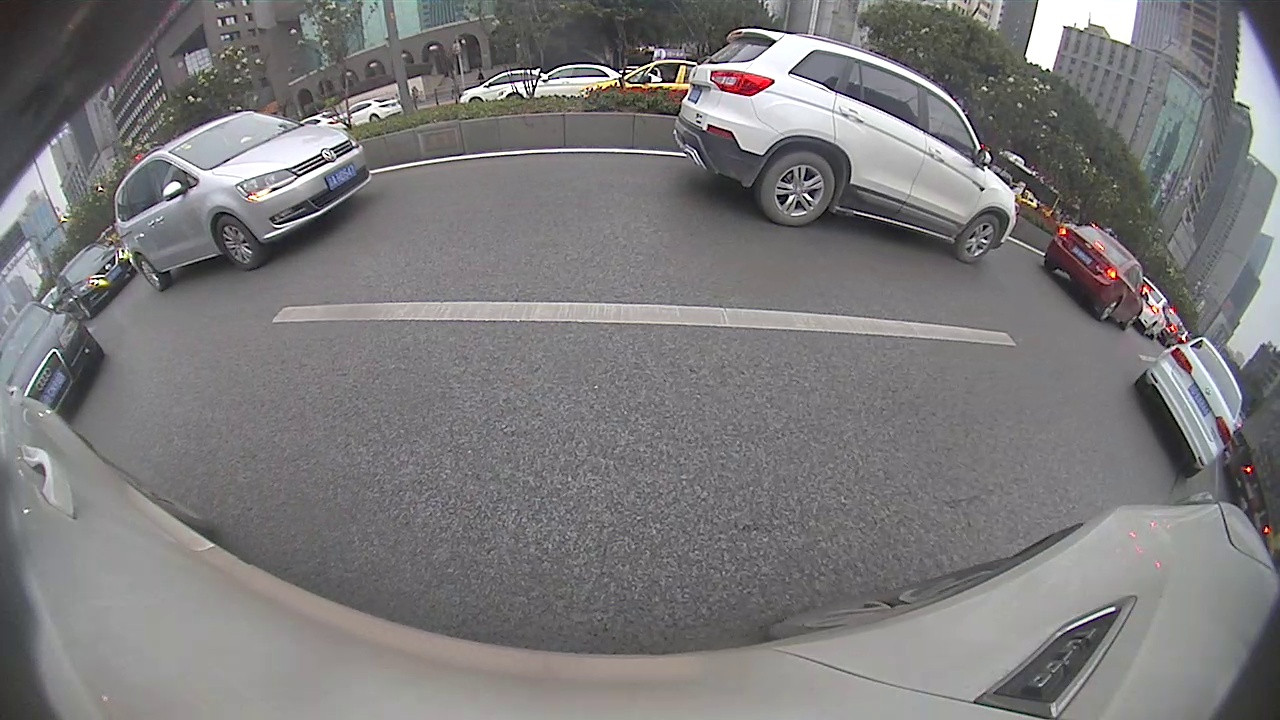car: (673, 27, 1018, 266), (113, 110, 372, 292), (1133, 335, 1244, 478), (0, 298, 106, 414), (1040, 223, 1149, 331), (53, 239, 135, 318)
front: (218, 215, 260, 269), (959, 215, 1000, 263), (507, 94, 524, 105), (471, 98, 480, 107)
rear: (759, 154, 837, 226), (137, 255, 165, 291)
